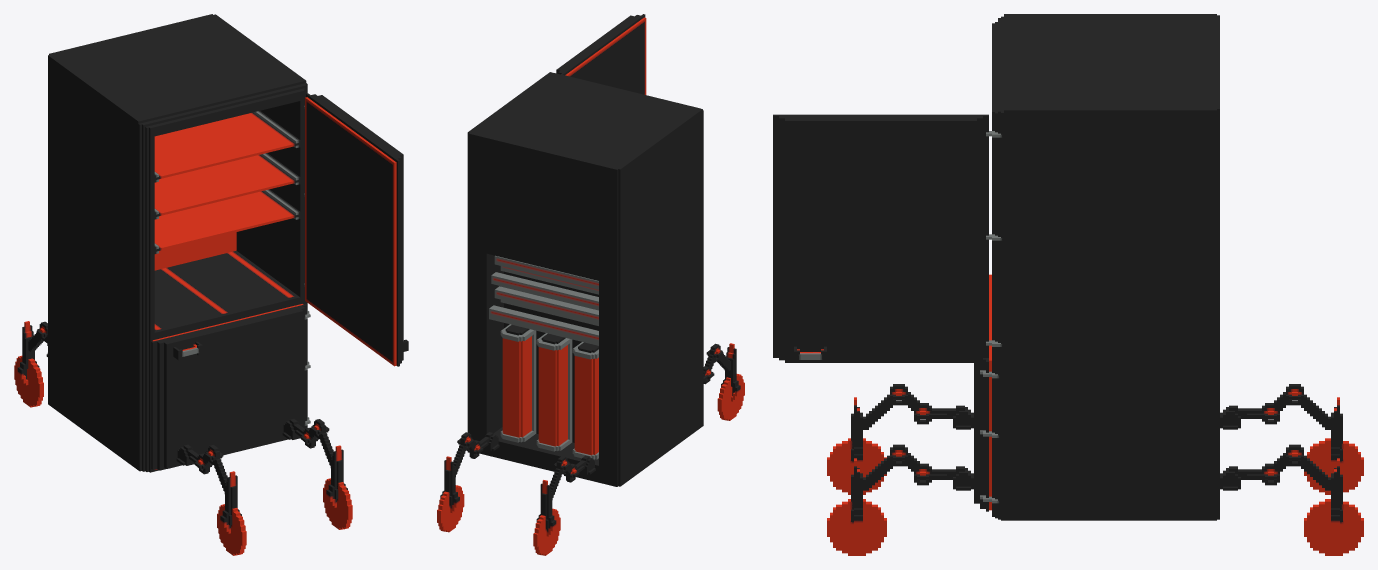
Rendered from Enemy-17-FridgeHard.fbx.
3 views of the same model, side by side, from view 1: azimuth 30°, elevation 25°; view 2: azimuth 150°, elevation 25°; view 3: azimuth 270°, elevation 25° (orthographic). The views are drawn at different scales.
Parts seen in each view (by area): view 1: FridgeHard; view 2: FridgeHard; view 3: FridgeHard.
Boxes of the visible parts, x1,y1,x2,y2 form: FridgeHard: (14, 14, 408, 555); FridgeHard: (437, 14, 744, 555); FridgeHard: (773, 14, 1363, 555).
Size of the model in its own units: 82 by 170 by 197.
Materials: 1 (1 with a texture image).
